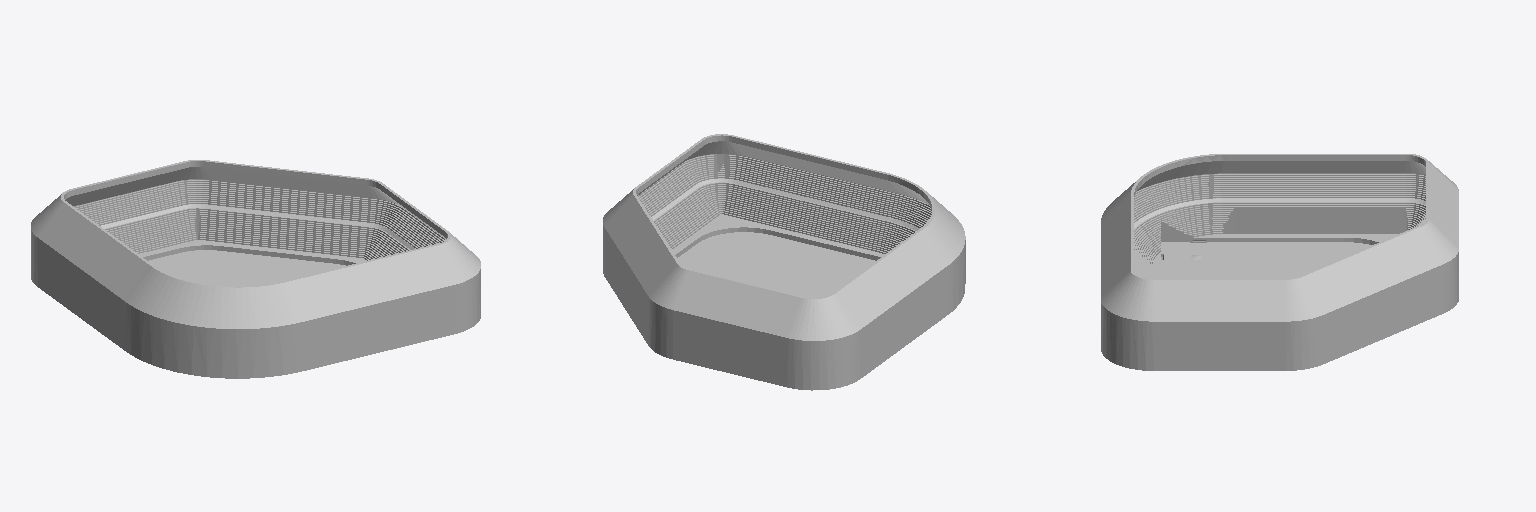
The model's file is stadium.obj.
3 renders of one model, left to right at view 1: azimuth 30°, elevation 25°; view 2: azimuth 150°, elevation 25°; view 3: azimuth 270°, elevation 25°, orthographic.
Parts seen in each view (by area): view 1: Baseball_Stadium; view 2: Baseball_Stadium; view 3: Baseball_Stadium.
Boxes of the visible parts, x1=… form: Baseball_Stadium: x1=31, y1=160, x2=480, y2=378; Baseball_Stadium: x1=603, y1=134, x2=965, y2=390; Baseball_Stadium: x1=1101, y1=154, x2=1458, y2=370.
Size of the model in its own units: 170 by 41.15 by 170.